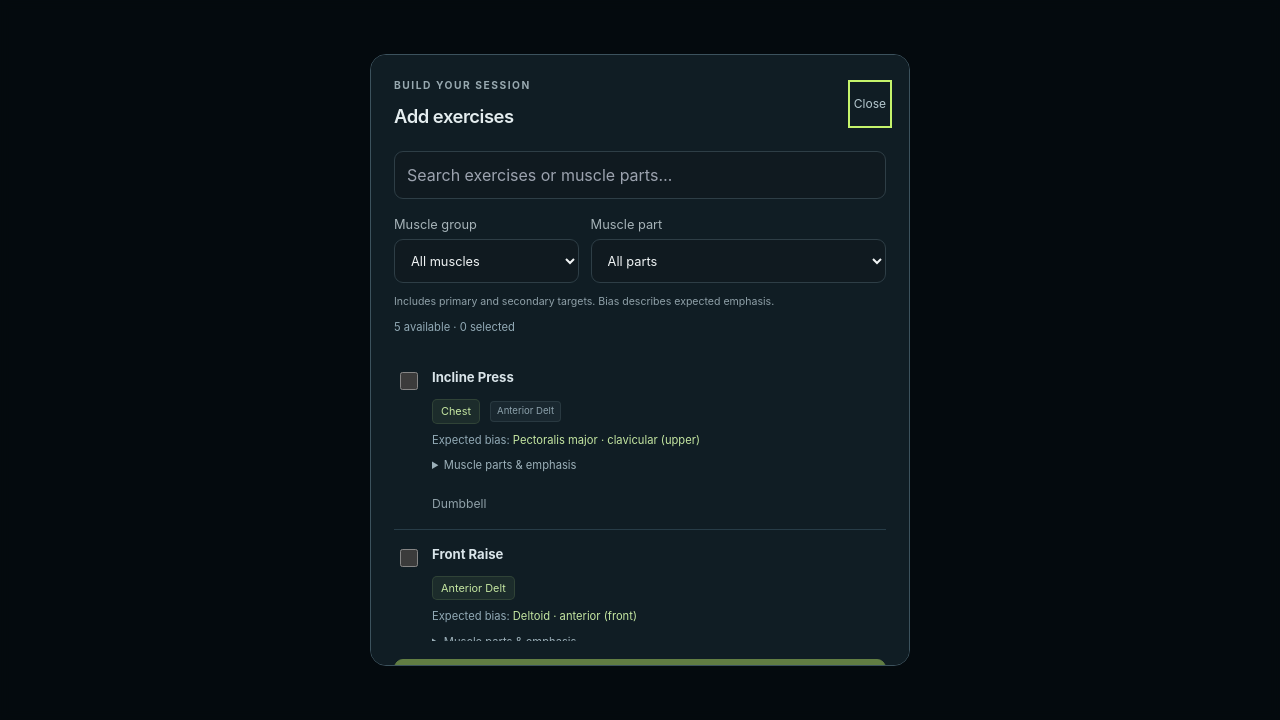
Scenario: exercise muscle filtering › clears part filters along with text and group filters
Select "posterior delt" in the dropdown labelled "Muscle group" at (486, 261), box [394,239,579,283]
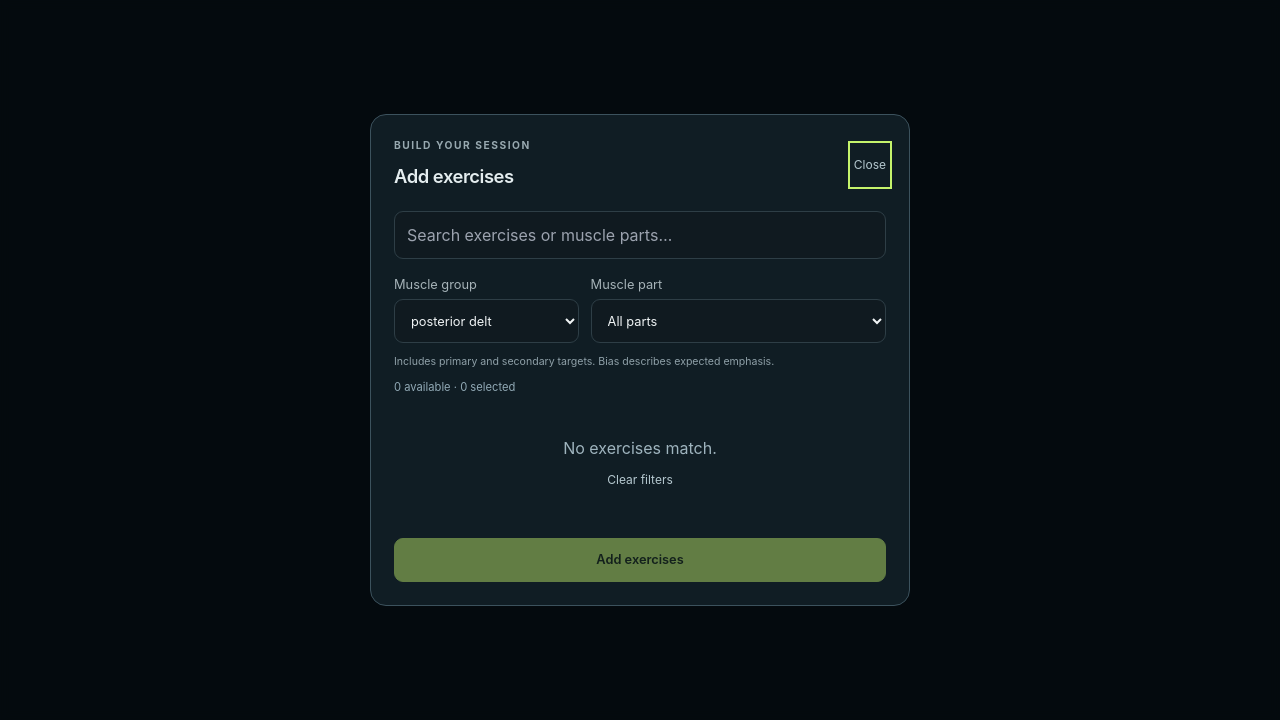
Select "Deltoid · posterior (rear)" in the dropdown labelled "Muscle part" at (738, 321), box [591,299,886,343]
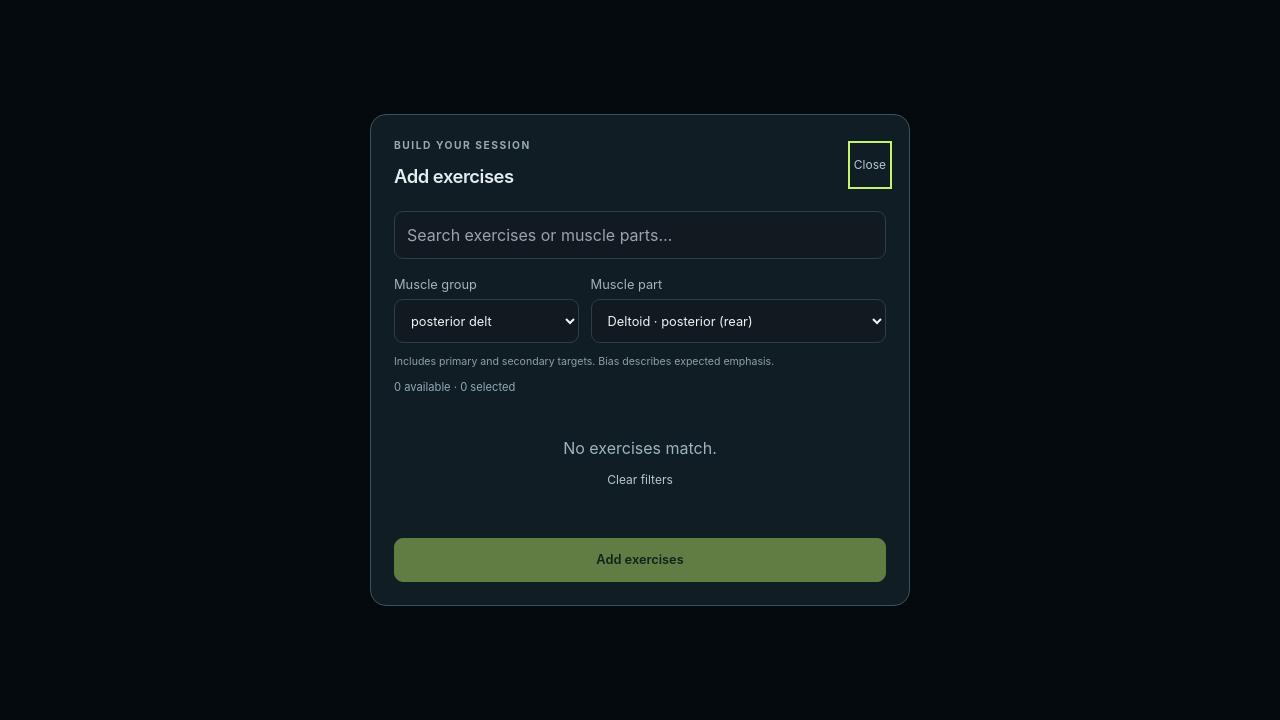
Type "missing" into the search field labelled "Search exercises" at (640, 235), box [394,211,886,259]
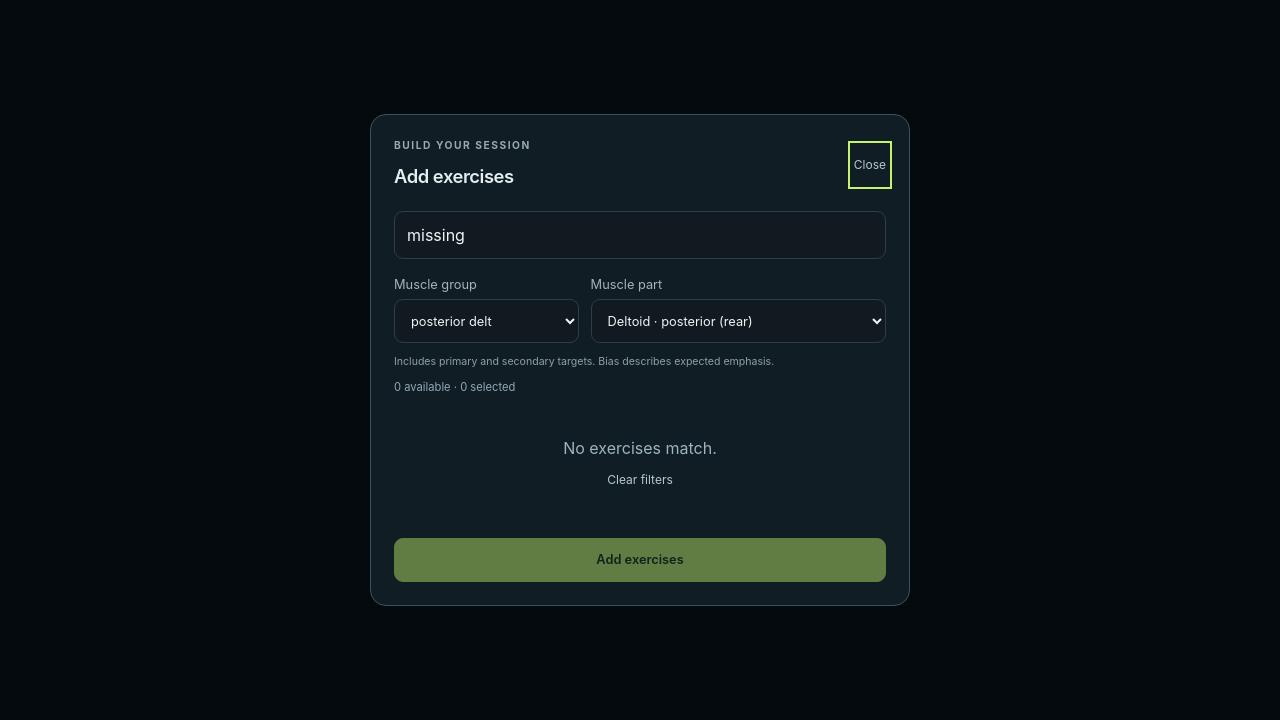
Click the button "Clear filters" at (640, 480), box [607,462,673,498]
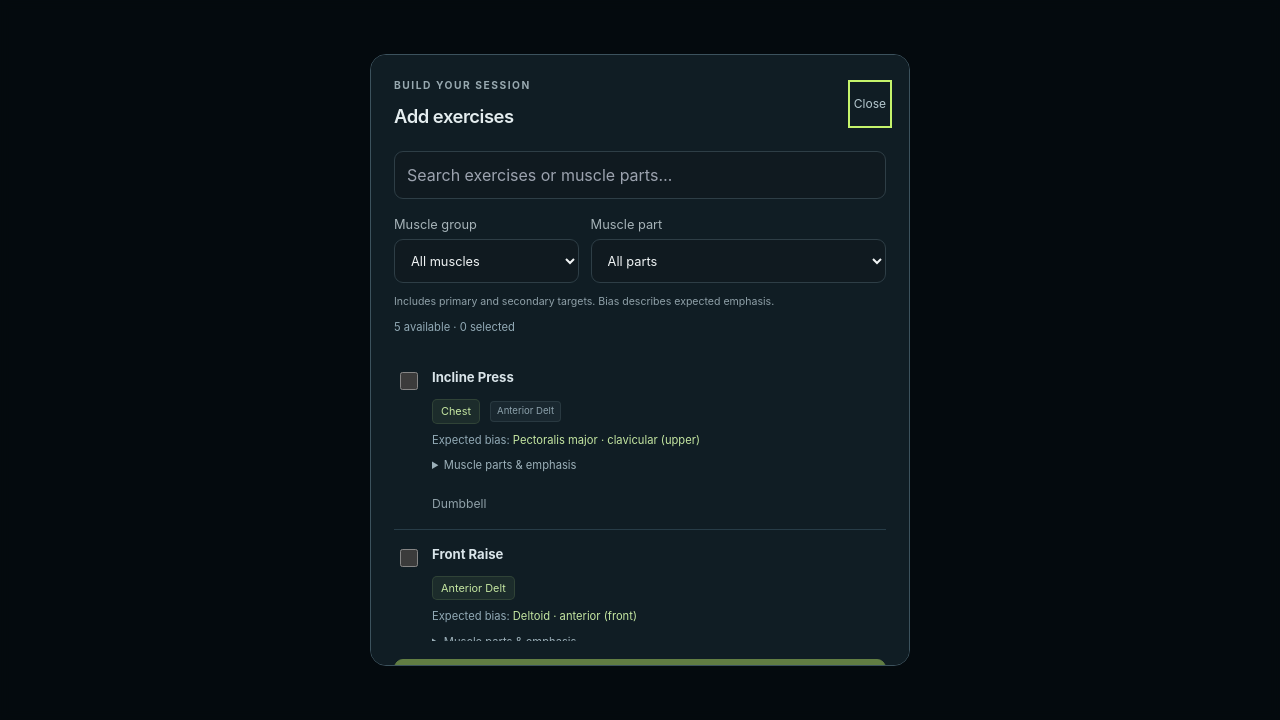
Result: the search field labelled "Search exercises" is empty at [394,151,886,199]
